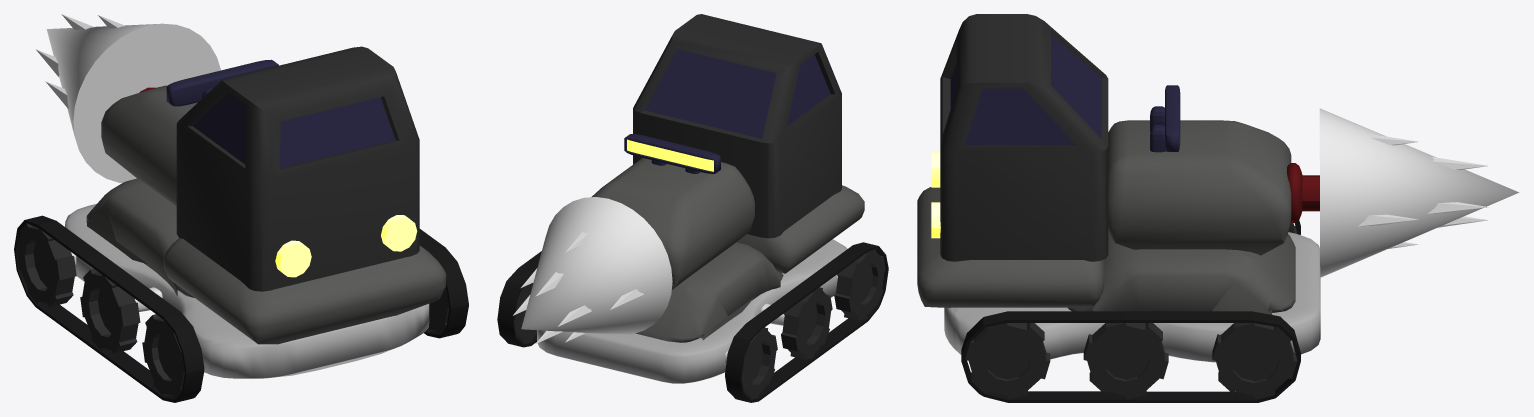
The model's file is bur.fbx.
The picture shows the model from 3 angles, left to right: view 1: azimuth 30°, elevation 25°; view 2: azimuth 150°, elevation 25°; view 3: azimuth 270°, elevation 25°; orthographic projection. The views are drawn at different scales.
Visible parts, largest first — view 1: Куб.008, Куб.010, Конус, Cube, Куб.009, Куб.004, Куб.005, Куб.002, Цилиндр.004, Цилиндр.003, Цилиндр.002, Куб.003 (+3 smaller); view 2: Куб.008, Конус, Куб.005, Cube, Куб.009, Куб.002, Куб.004, Куб.010, Цилиндр.004, Цилиндр.002, Цилиндр.003, Куб.003 (+3 smaller); view 3: Куб.008, Куб.005, Конус, Куб.002, Куб.010, Cube, Куб.009, Куб.003, Цилиндр.005, Цилиндр, Цилиндр.001, Куб.013 (+3 smaller).
Boxes of the visible parts, bbox=[...] form: Куб.008: bbox=[176, 46, 419, 291]; Куб.010: bbox=[163, 238, 446, 344]; Конус: bbox=[46, 23, 220, 182]; Cube: bbox=[65, 204, 429, 378]; Куб.009: bbox=[193, 93, 395, 168]; Куб.004: bbox=[14, 215, 204, 402]; Куб.005: bbox=[101, 85, 197, 205]; Куб.002: bbox=[86, 178, 194, 297]; Цилиндр.004: bbox=[80, 268, 140, 353]; Цилиндр.003: bbox=[16, 223, 76, 306]; Цилиндр.002: bbox=[142, 314, 184, 398]; Куб.003: bbox=[419, 229, 468, 338]; Куб.008: bbox=[633, 14, 841, 238]; Конус: bbox=[521, 197, 672, 334]; Куб.005: bbox=[591, 158, 754, 289]; Cube: bbox=[537, 239, 847, 383]; Куб.009: bbox=[645, 49, 830, 138]; Куб.002: bbox=[635, 242, 783, 342]; Куб.004: bbox=[725, 242, 888, 402]; Куб.010: bbox=[736, 185, 864, 273]; Цилиндр.004: bbox=[781, 287, 832, 359]; Цилиндр.002: bbox=[834, 249, 885, 320]; Цилиндр.003: bbox=[741, 327, 777, 399]; Куб.003: bbox=[497, 251, 541, 347]; Куб.008: bbox=[940, 14, 1108, 261]; Куб.005: bbox=[1108, 120, 1291, 255]; Конус: bbox=[1319, 108, 1519, 277]; Куб.002: bbox=[1068, 231, 1295, 314]; Куб.010: bbox=[917, 187, 1104, 307]; Cube: bbox=[944, 232, 1320, 362]; Куб.009: bbox=[950, 34, 1101, 145]; Куб.003: bbox=[961, 311, 1300, 402]; Цилиндр.005: bbox=[1083, 323, 1168, 399]; Цилиндр: bbox=[965, 323, 1050, 399]; Цилиндр.001: bbox=[1212, 323, 1297, 399]; Куб.013: bbox=[1165, 85, 1180, 151].
Size of the model in its own units: 331 by 327 by 620.
